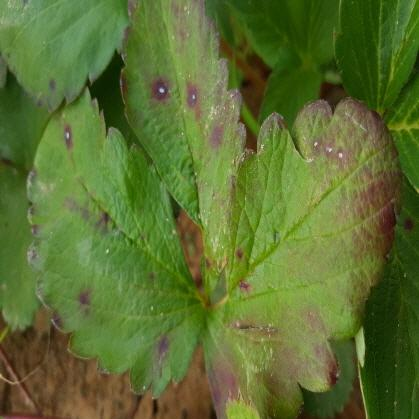Leaf Spot: (201, 95, 403, 418), (25, 82, 206, 397), (119, 0, 248, 233), (0, 0, 130, 113)
